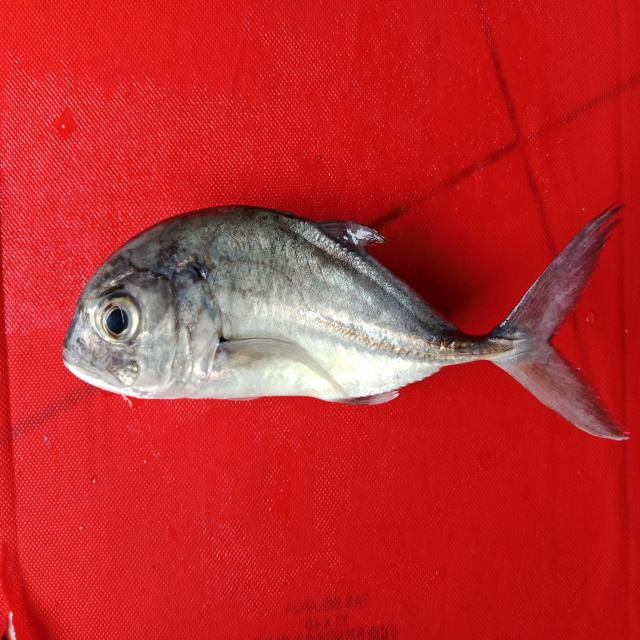ikan: (53, 172, 632, 446)
